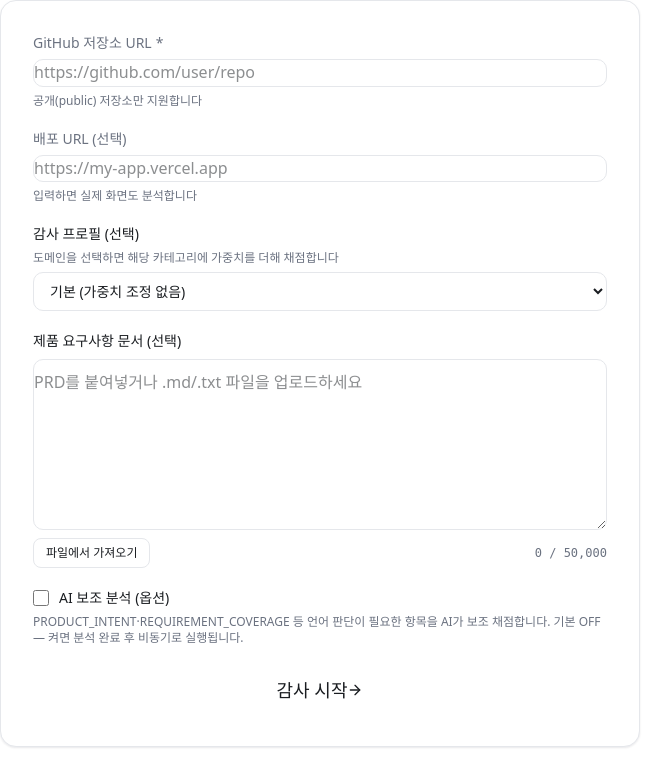
UrlInputForm › shows zod validation errors for invalid GitHub URL
Type "https://example.com/not-github" into the field labelled "GitHub 저장소 URL*" at (320, 73), box [33,59,607,87]
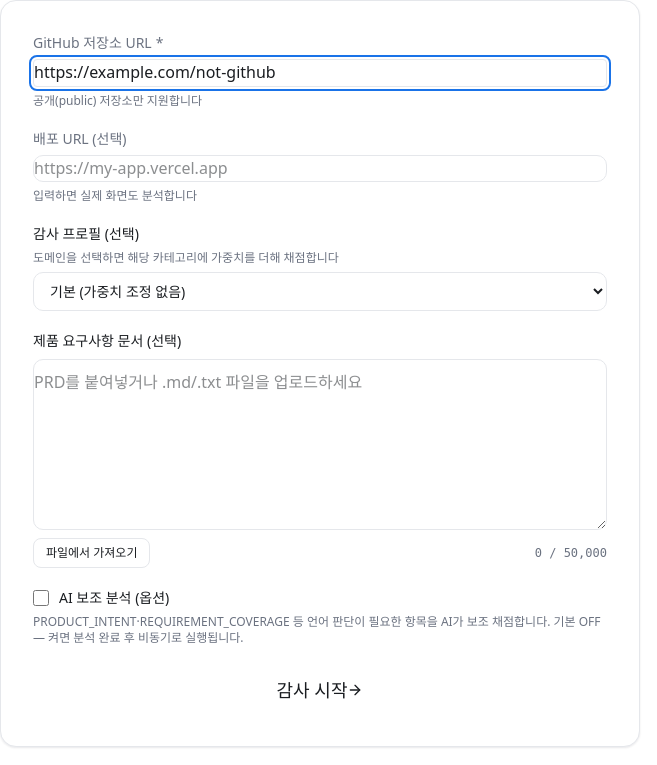
Click the button "감사 시작" at (320, 690), box [33,666,607,714]
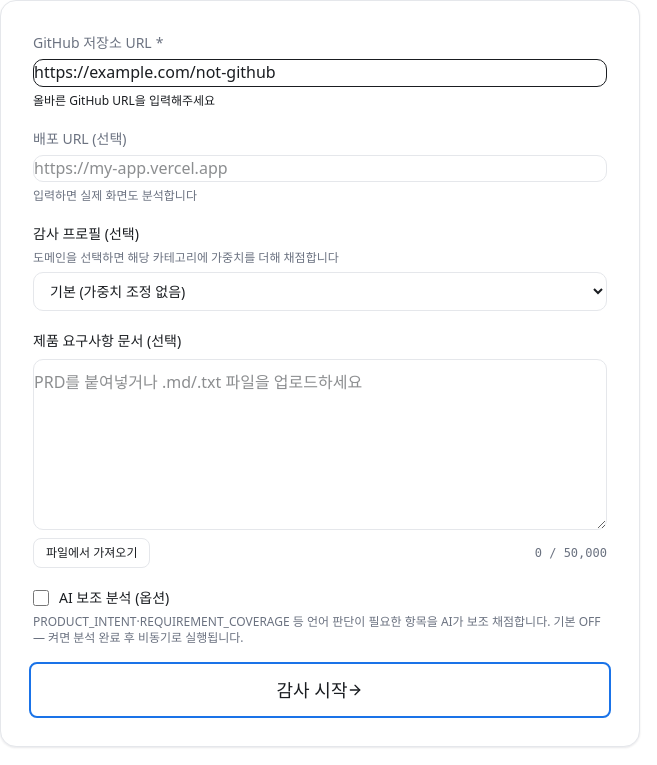
Expected: the text "올바른 GitHub URL을 입력해주세요" is shown, [33,92,215,109]
